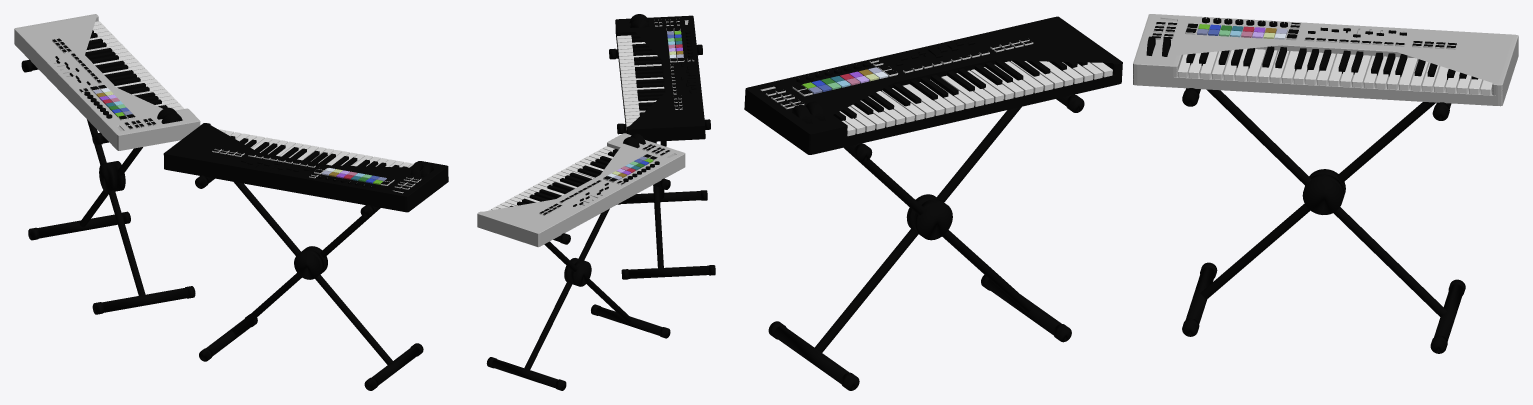
Rendered from keyboards.fbx.
3 views of the same model, side by side, from view 1: azimuth 30°, elevation 25°; view 2: azimuth 150°, elevation 25°; view 3: azimuth 270°, elevation 25° (orthographic). The views are drawn at different scales.
Parts seen in each view (by area): view 1: Cube.005, Cube.173; view 2: Cube.173, Cube.005; view 3: Cube.173, Cube.005.
Boxes of the visible parts, <box> form: Cube.005: <box>163,123,448,390</box>; Cube.173: <box>14,14,200,314</box>; Cube.173: <box>477,133,685,390</box>; Cube.005: <box>609,14,715,279</box>; Cube.173: <box>1133,14,1518,353</box>; Cube.005: <box>744,16,1122,390</box>.
Bounding box in the file's own units: 413 × 409 × 984.
